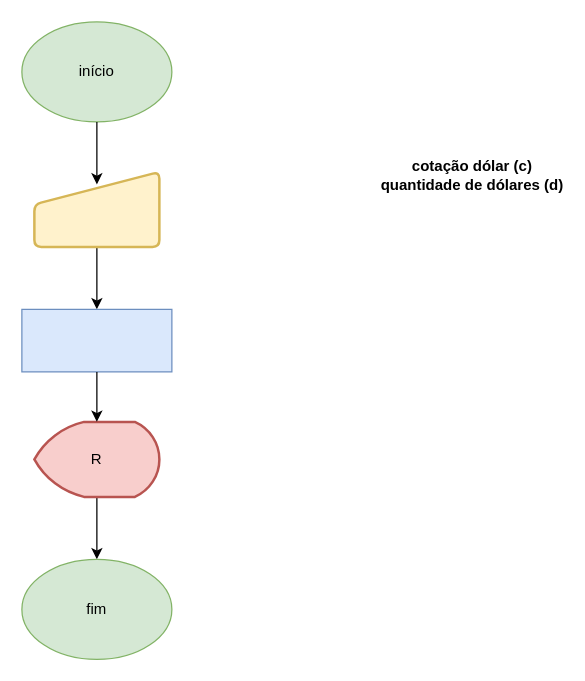
Image size: 585x681. Some labels were removed from this diagram. The centre of each missing label's shape, as x and y in pixels:
c, d: the point at 96,209
R = c * d: the point at 96,340
